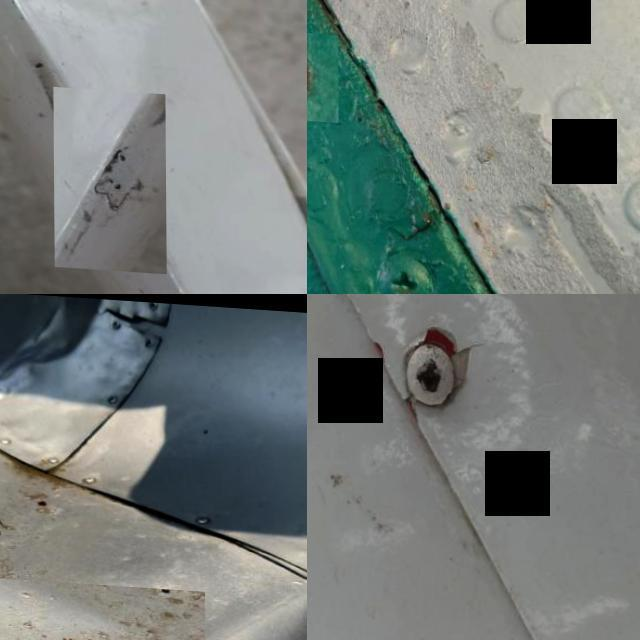Crack: (370, 303, 497, 470), (53, 84, 166, 270), (88, 296, 175, 348)
Dent: (0, 571, 205, 640), (0, 294, 119, 393)
Missing_Fastener: (307, 27, 338, 119)
